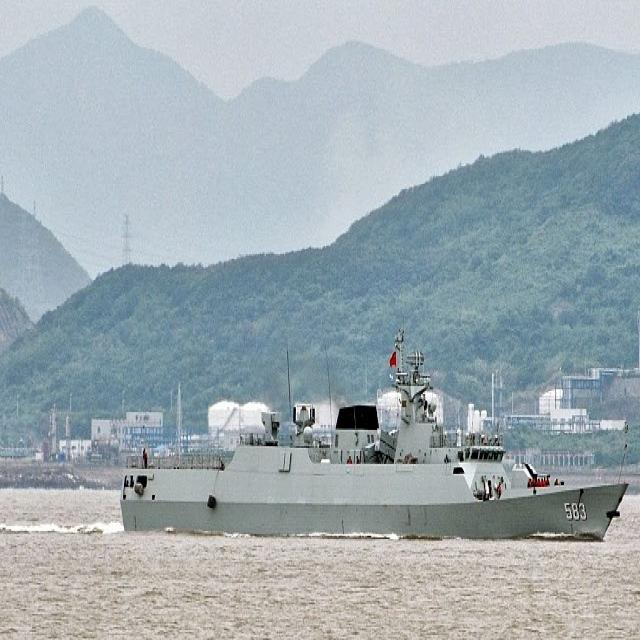Corvette-Jiangdao-class-056-CHI: (116, 314, 627, 544)
